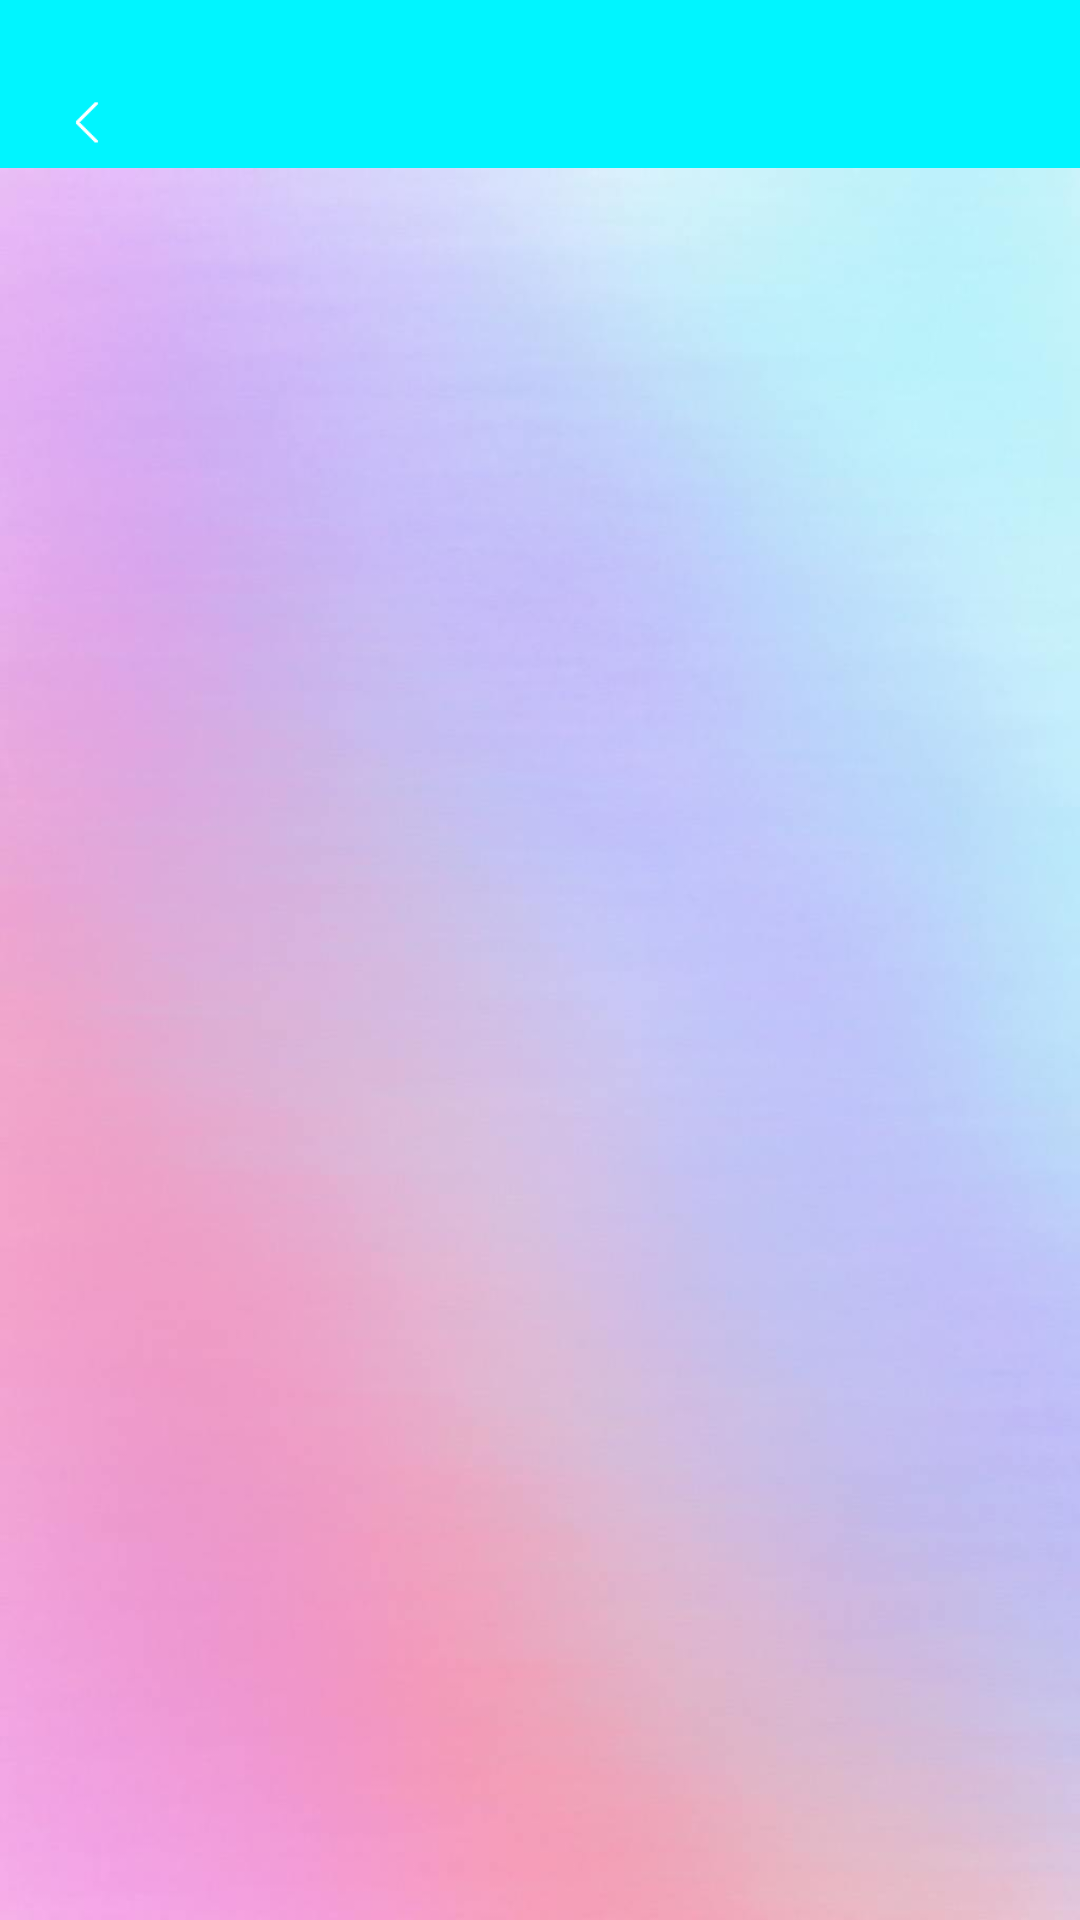

Icon bounding boxes for this 1080x1920 phone screenshot, format [x1,y1,x2,y2]:
back: [76,102,98,143]
